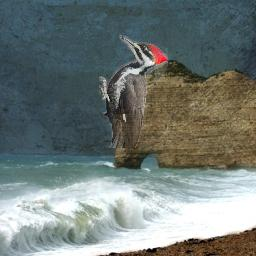Woodpecker: (99, 34, 168, 148)
